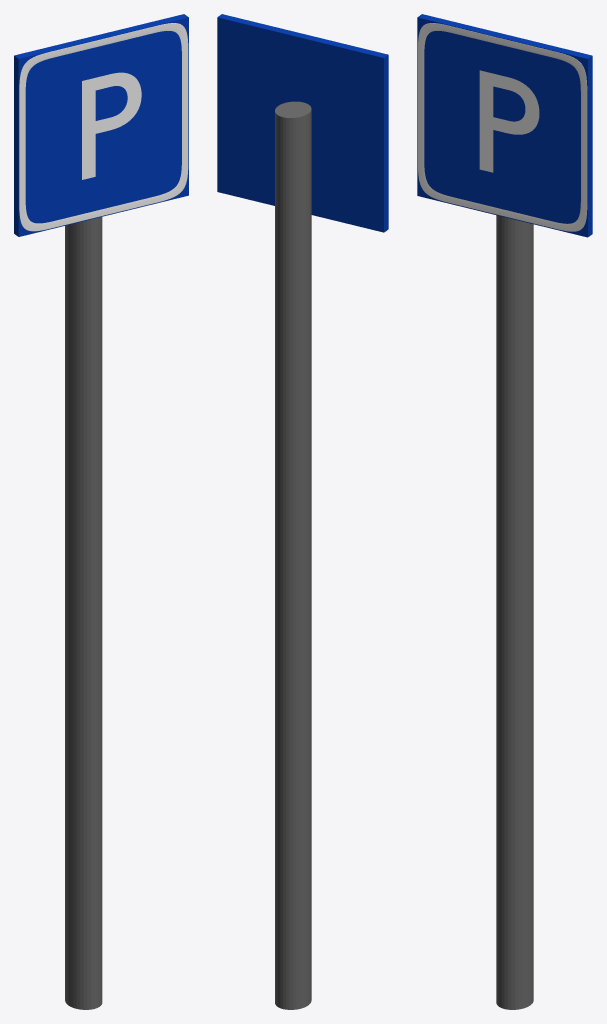
The model's file is Parkering.fbx.
The picture shows the model from 3 angles, left to right: view 1: azimuth 30°, elevation 25°; view 2: azimuth 150°, elevation 25°; view 3: azimuth 330°, elevation 25°; orthographic projection. The views are drawn at different scales.
Visible parts, largest first — view 1: Trafikstolpe1, Parkeringsskylt, Plane.002, Text.003; view 2: Trafikstolpe1, Parkeringsskylt; view 3: Trafikstolpe1, Parkeringsskylt, Plane.002, Text.003.
Part boxes in pixels (left/top/right/bottom): Trafikstolpe1: left=65, top=217, right=102, bottom=1009; Parkeringsskylt: left=14, top=14, right=188, bottom=236; Plane.002: left=19, top=23, right=188, bottom=231; Text.003: left=82, top=72, right=141, bottom=179; Trafikstolpe1: left=275, top=101, right=311, bottom=1009; Parkeringsskylt: left=217, top=14, right=388, bottom=232; Trafikstolpe1: left=496, top=215, right=533, bottom=1009; Parkeringsskylt: left=417, top=14, right=592, bottom=237; Plane.002: left=418, top=23, right=587, bottom=231; Text.003: left=479, top=70, right=539, bottom=172.
Bounding box in the file's own units: 0.9835 × 5.38 × 0.2714.
